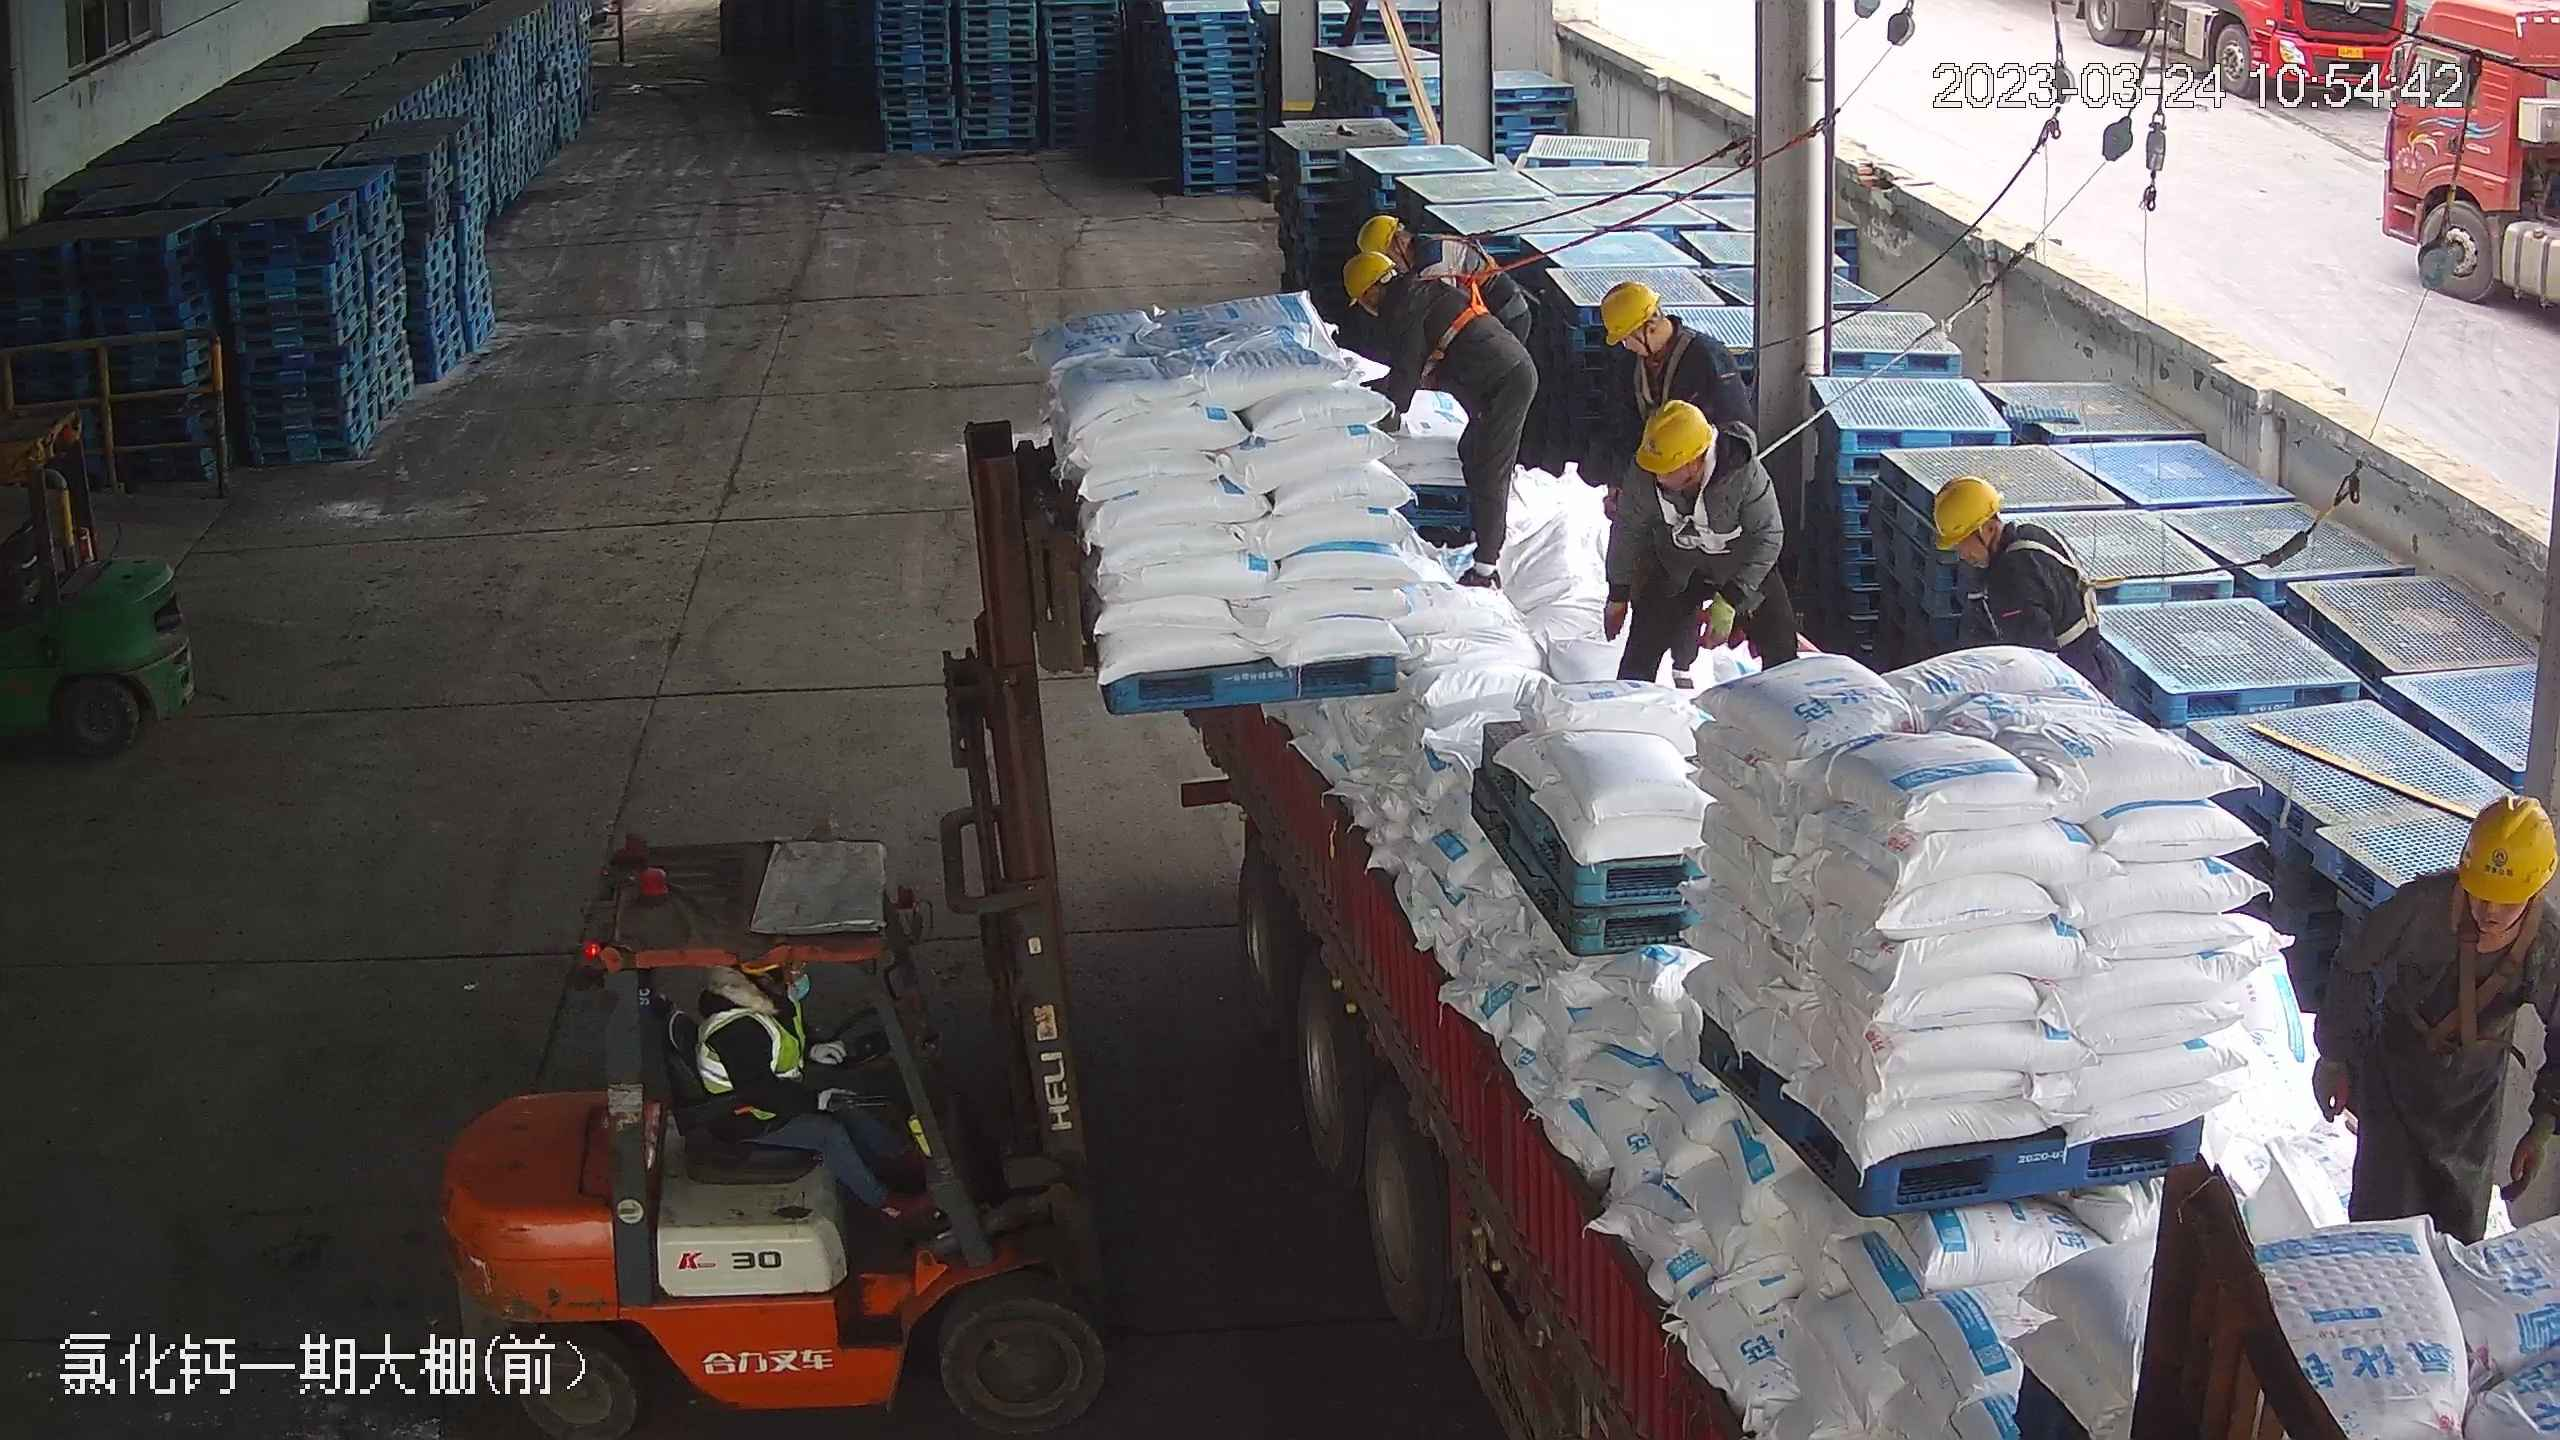belt: (1998, 520, 2115, 643), (1642, 438, 1767, 553), (1408, 257, 1511, 351), (1417, 221, 1514, 305), (1626, 327, 1715, 411)
head: (2359, 789, 2559, 991), (1931, 472, 2085, 609), (1624, 394, 1775, 525), (1599, 279, 1734, 391), (1347, 234, 1475, 337)
helmet: (2454, 788, 2557, 905), (1634, 396, 1717, 473), (1928, 473, 2003, 550), (1596, 278, 1662, 346), (1344, 237, 1397, 305), (1353, 209, 1401, 266)
people: (2322, 794, 2559, 1243), (1344, 234, 1537, 594), (688, 960, 925, 1237), (1604, 393, 1797, 690)
truck: (1193, 213, 2512, 1440), (2384, 2, 2558, 724)
